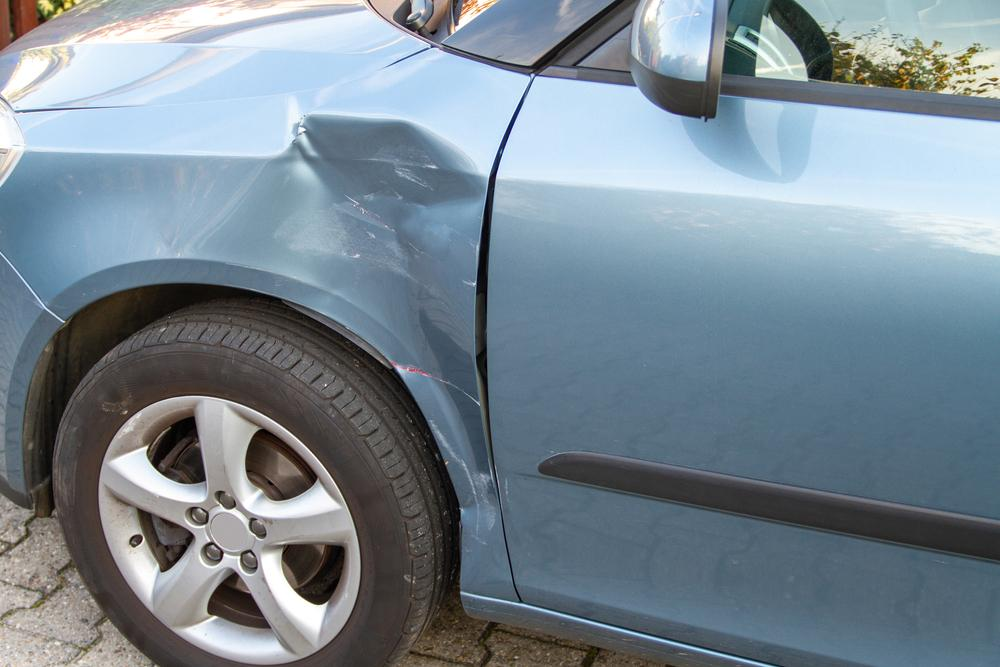dent: (193, 113, 501, 523)
